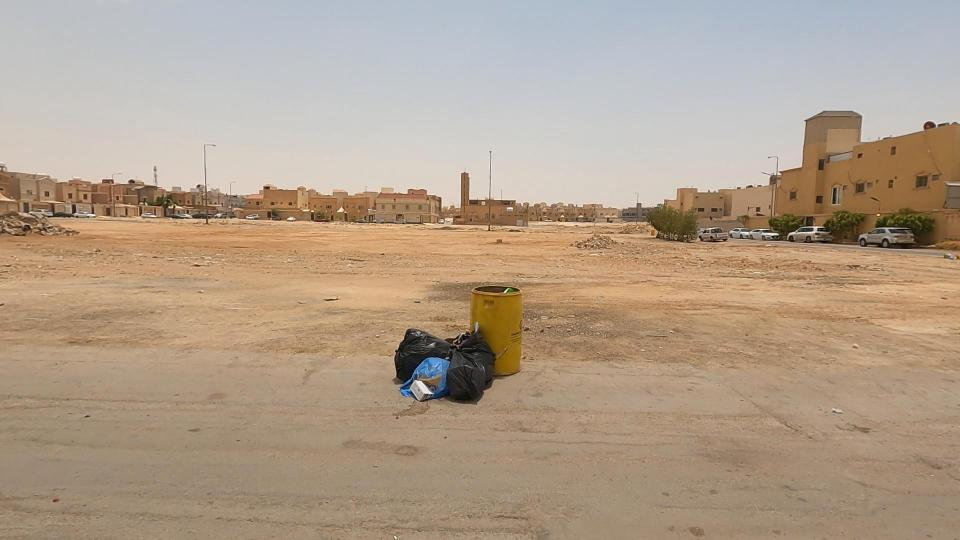GARBAGE: (310, 273, 563, 455)
